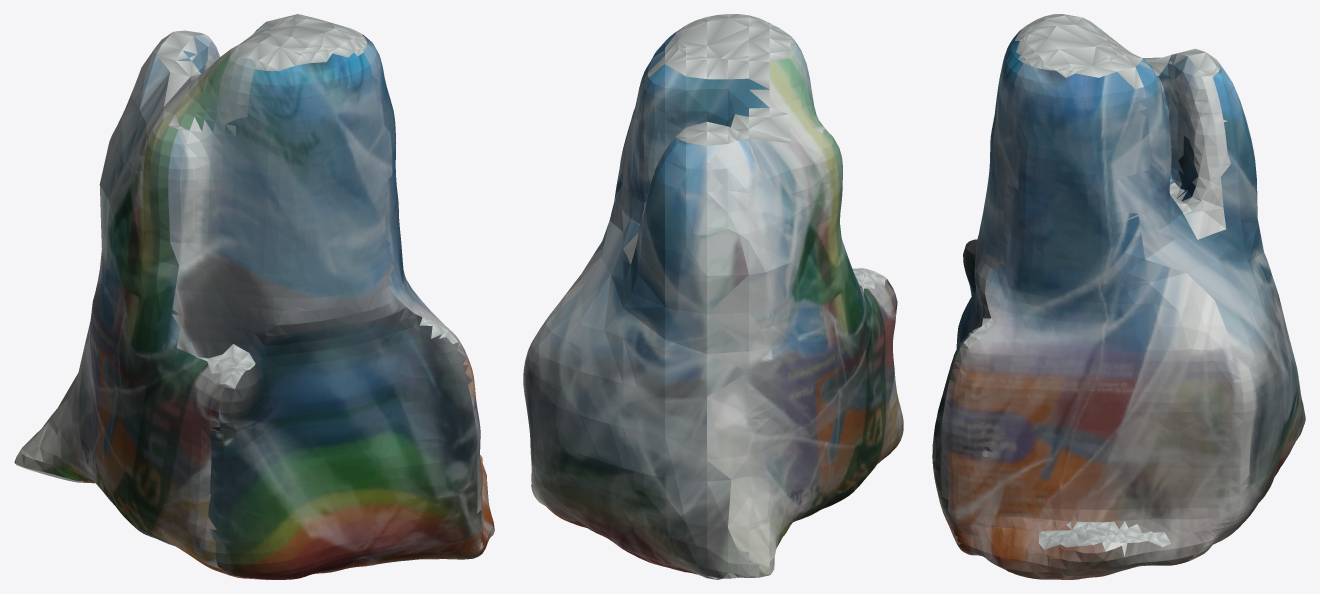
Rendered from recommended.dae.
3 renders of one model, left to right at view 1: azimuth 30°, elevation 25°; view 2: azimuth 150°, elevation 25°; view 3: azimuth 270°, elevation 25°, orthographic. The views are drawn at different scales.
Visible parts, largest first — view 1: optimized_poisson_texture_mapped_mesh; view 2: optimized_poisson_texture_mapped_mesh; view 3: optimized_poisson_texture_mapped_mesh.
Boxes of the visible parts, bbox=[...] form: optimized_poisson_texture_mapped_mesh: bbox=[14, 14, 494, 579]; optimized_poisson_texture_mapped_mesh: bbox=[523, 14, 903, 579]; optimized_poisson_texture_mapped_mesh: bbox=[932, 14, 1305, 579].
Bounding box in the file's own units: 0.1166 × 0.1163 × 0.1645.
Materials: 1 (1 with a texture image).
